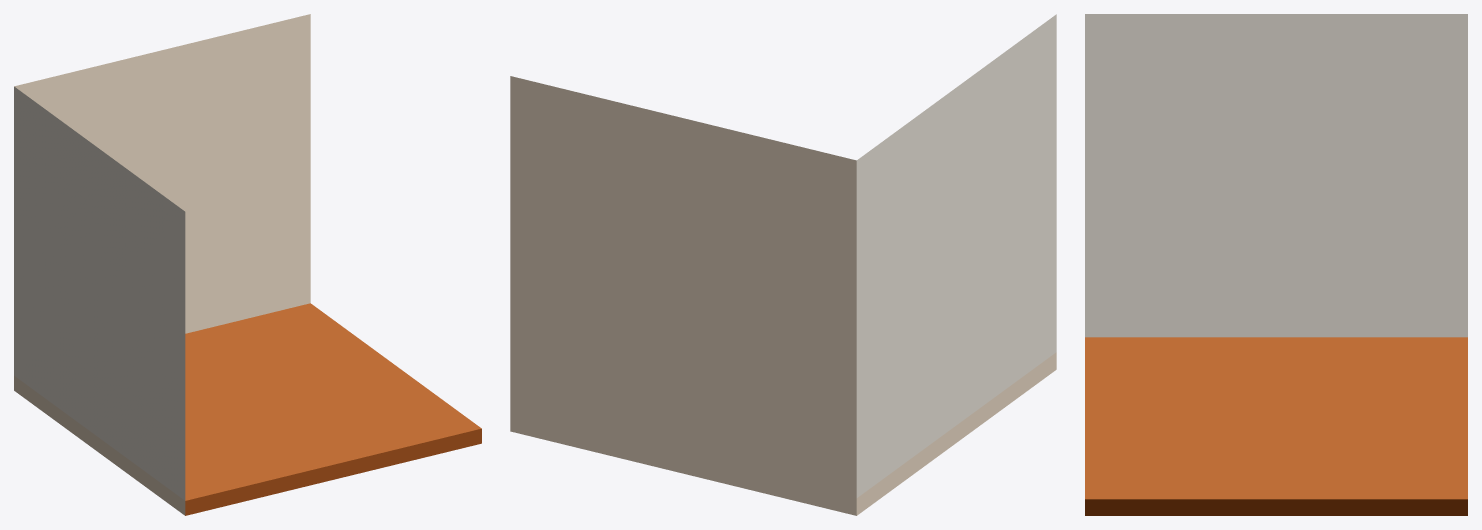
The model's file is wall.FBX.
3 views of the same model, side by side, from view 1: azimuth 30°, elevation 25°; view 2: azimuth 150°, elevation 25°; view 3: azimuth 270°, elevation 25° (orthographic). The views are drawn at different scales.
Parts seen in each view (by area): view 1: Box002; view 2: Box002; view 3: Box002.
Boxes of the visible parts, x1,y1,x2,y2 form: Box002: (14,14,481,515); Box002: (510,14,1056,515); Box002: (1085,14,1467,515).
Bounding box in the file's own units: 1074 × 1053 × 1074.
